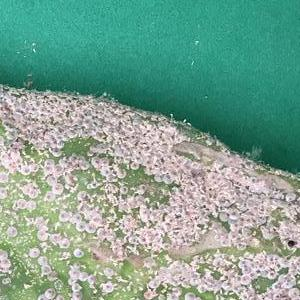Femea: (140, 280, 199, 299), (28, 246, 55, 280), (65, 266, 92, 299), (58, 209, 87, 233), (130, 149, 155, 176), (89, 156, 117, 180), (157, 166, 186, 188), (85, 212, 109, 237), (47, 124, 66, 155), (67, 124, 93, 145), (41, 158, 67, 176), (44, 176, 61, 203), (119, 210, 140, 231), (61, 238, 83, 258), (166, 188, 188, 208), (140, 200, 165, 217), (108, 183, 126, 197)
Macho: (117, 277, 128, 284)
